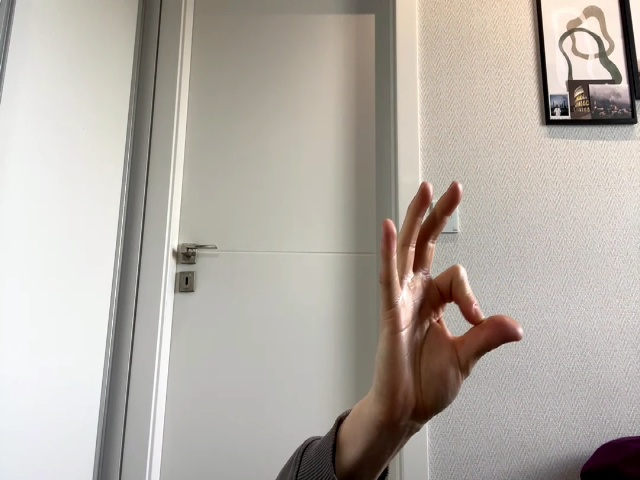S: (378, 181, 524, 411)
